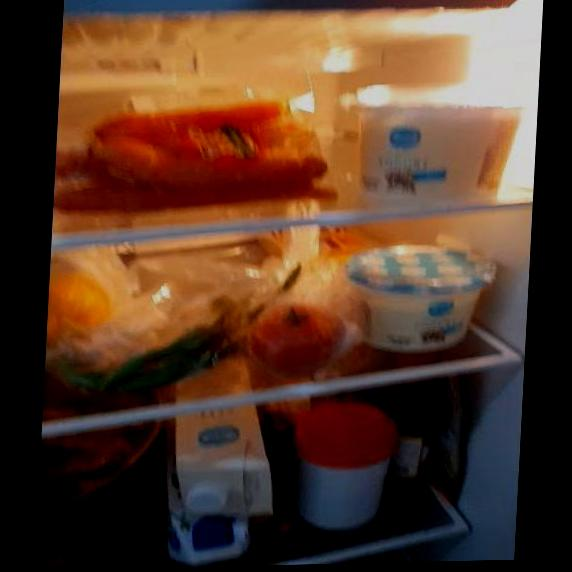carrot: (56, 99, 329, 206)
green chilies: (56, 322, 246, 390)
lemon: (47, 272, 120, 344)
milk: (163, 419, 282, 556)
sauce: (387, 386, 446, 479)
tomato: (256, 306, 348, 364)
yoghurt: (351, 100, 513, 210), (344, 244, 491, 353)
